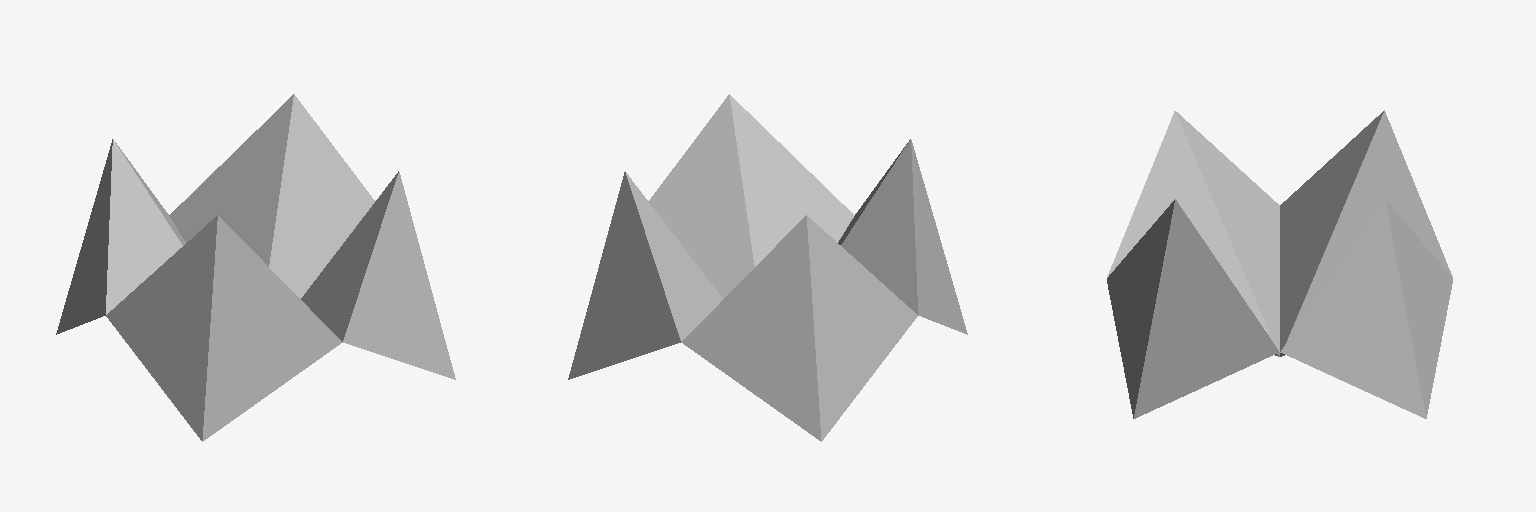
Rendered from origami fold fourth 1.obj.
The picture shows the model from 3 angles: view 1: azimuth 30°, elevation 25°; view 2: azimuth 150°, elevation 25°; view 3: azimuth 270°, elevation 25°; orthographic projection.
Visible parts, largest first — view 1: Top_Right_Plane.014, Bottom_Left_Plane.016, Top_Left_Plane.015, Bottom_Right_Plane.018; view 2: Bottom_Right_Plane.018, Top_Left_Plane.015, Bottom_Left_Plane.016, Top_Right_Plane.014; view 3: Top_Left_Plane.015, Bottom_Left_Plane.016, Bottom_Right_Plane.018, Top_Right_Plane.014.
Part boxes in pixels (bbox=[...]): Top_Right_Plane.014: bbox=[106, 215, 342, 441]; Bottom_Left_Plane.016: bbox=[169, 94, 374, 298]; Top_Left_Plane.015: bbox=[301, 171, 455, 379]; Bottom_Right_Plane.018: bbox=[56, 139, 185, 334]; Bottom_Right_Plane.018: bbox=[681, 215, 917, 441]; Top_Left_Plane.015: bbox=[648, 94, 854, 298]; Bottom_Left_Plane.016: bbox=[568, 171, 722, 379]; Top_Right_Plane.014: bbox=[838, 139, 967, 334]; Top_Left_Plane.015: bbox=[1107, 199, 1279, 418]; Bottom_Left_Plane.016: bbox=[1280, 199, 1452, 418]; Bottom_Right_Plane.018: bbox=[1280, 110, 1452, 351]; Top_Right_Plane.014: bbox=[1107, 111, 1279, 351].
Bounding box in the file's own units: 2 × 1.29 × 2.